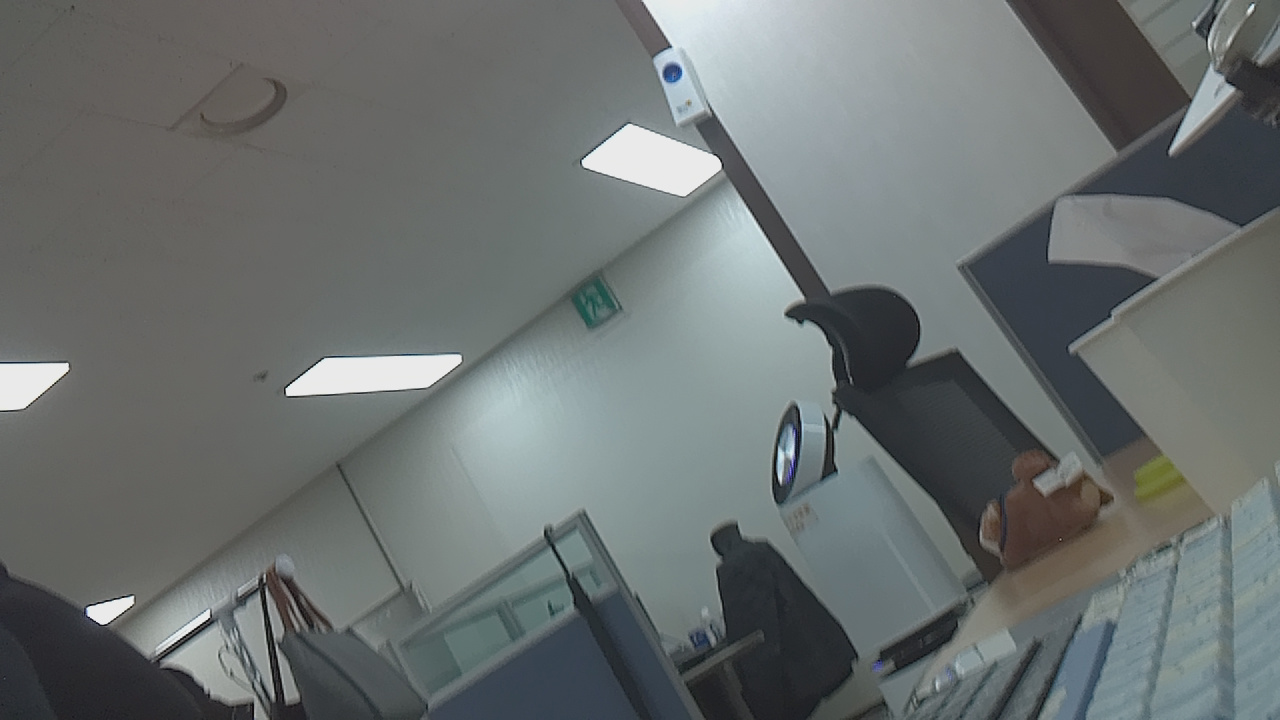cuteDog: (975, 437, 1138, 563)
